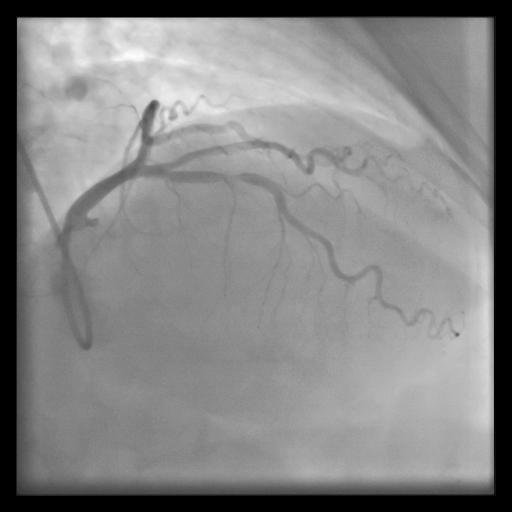Stenosis: (222, 167, 243, 185)
